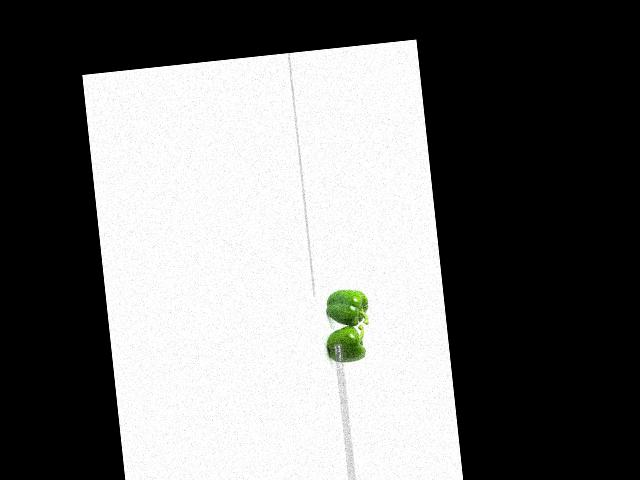bell_pepper: (318, 287, 373, 328)
